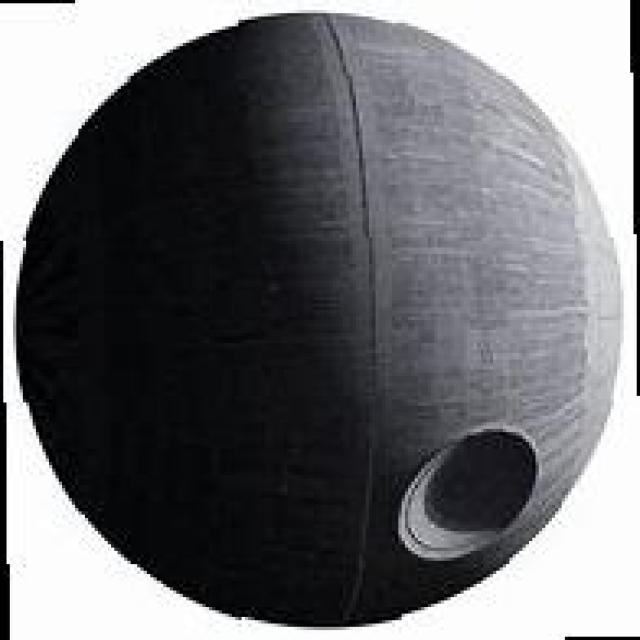Death Star: (18, 10, 631, 620)
